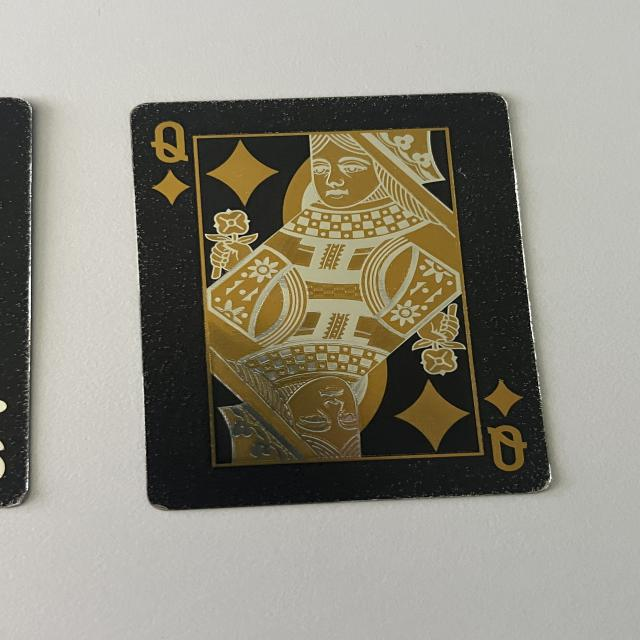QD: (474, 380, 537, 481), (135, 118, 197, 206)
